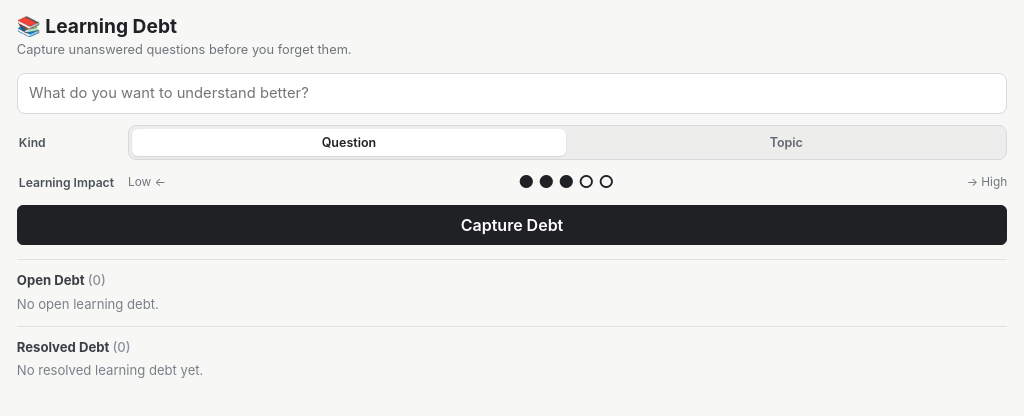
Scenario: App › shows a validation message when capturing without a title
Expected: the field named "Learning Debt" is shown, [17,73,1007,114]
Click the button "Capture Debt" at (512, 225), box [17,204,1007,245]
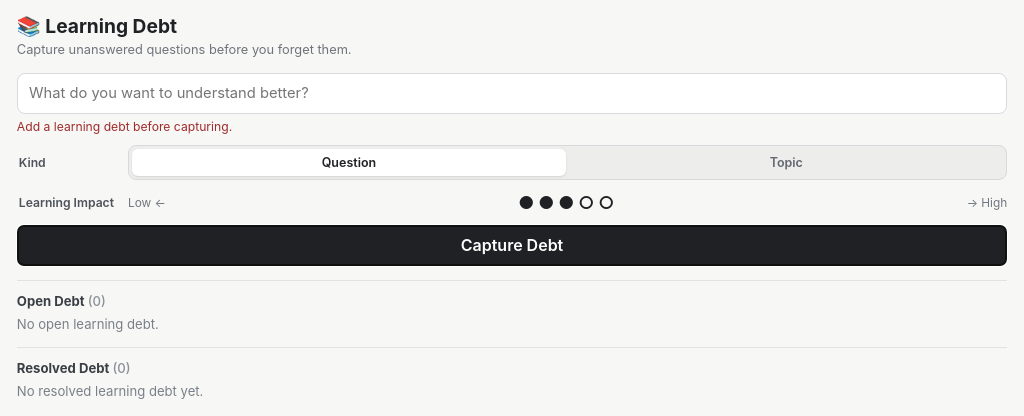
Expected: the text "Add a learning debt before capturing." is shown, [17,119,232,134]
Type "Understand indexes" into the field named "Learning Debt" at (512, 93), box [17,73,1007,114]
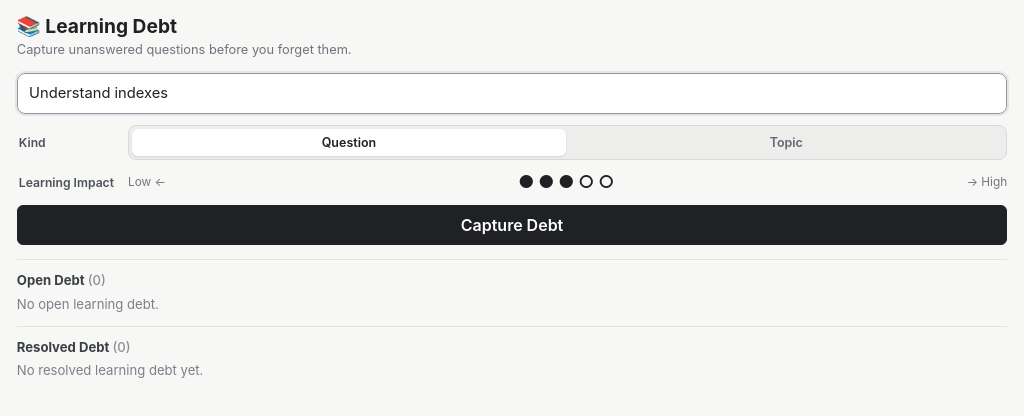
Expected: the text "Add a learning debt before capturing." is gone
